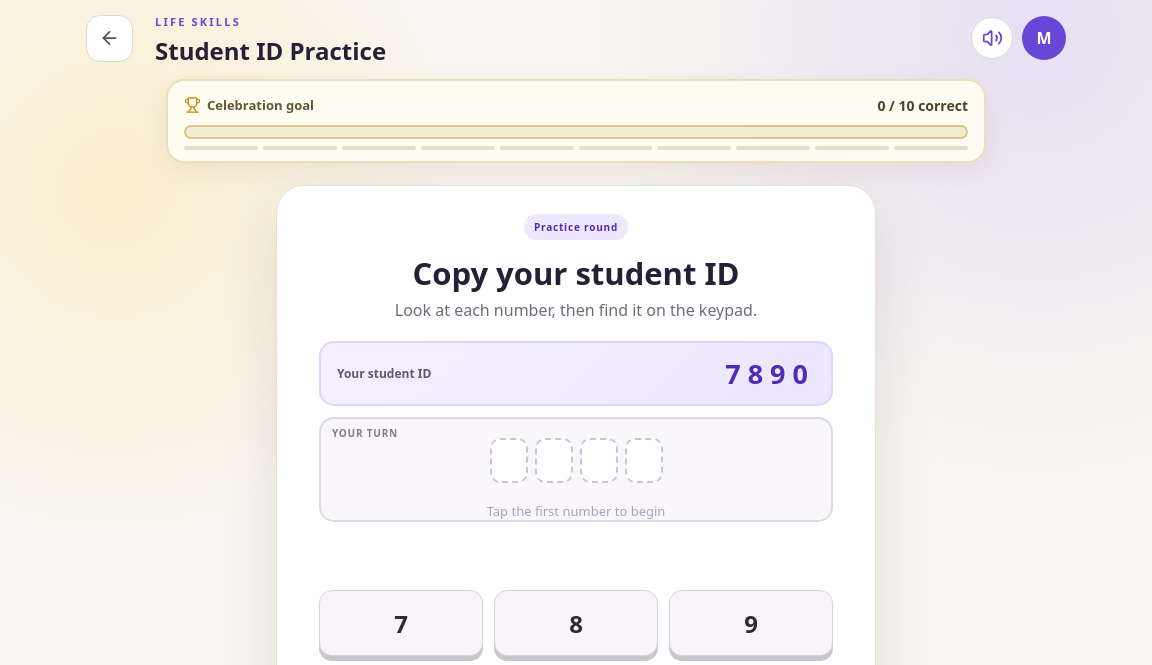
Test case: Student ID game mechanics › accepts the configured ID and increments safe success progress
The width and height of the screenshot is (1152, 665).
Click the button named "Number 7" at x=401, y=623, box [319,590,483,656]
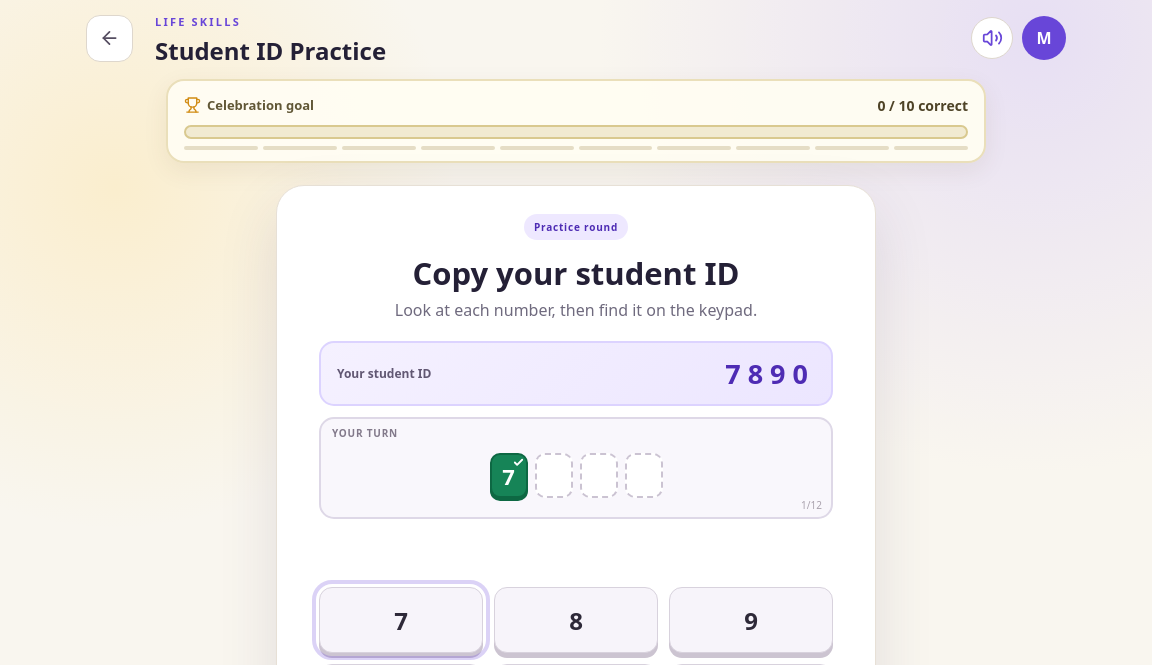
Click the button named "Number 8" at x=576, y=620, box [494,587,658,653]
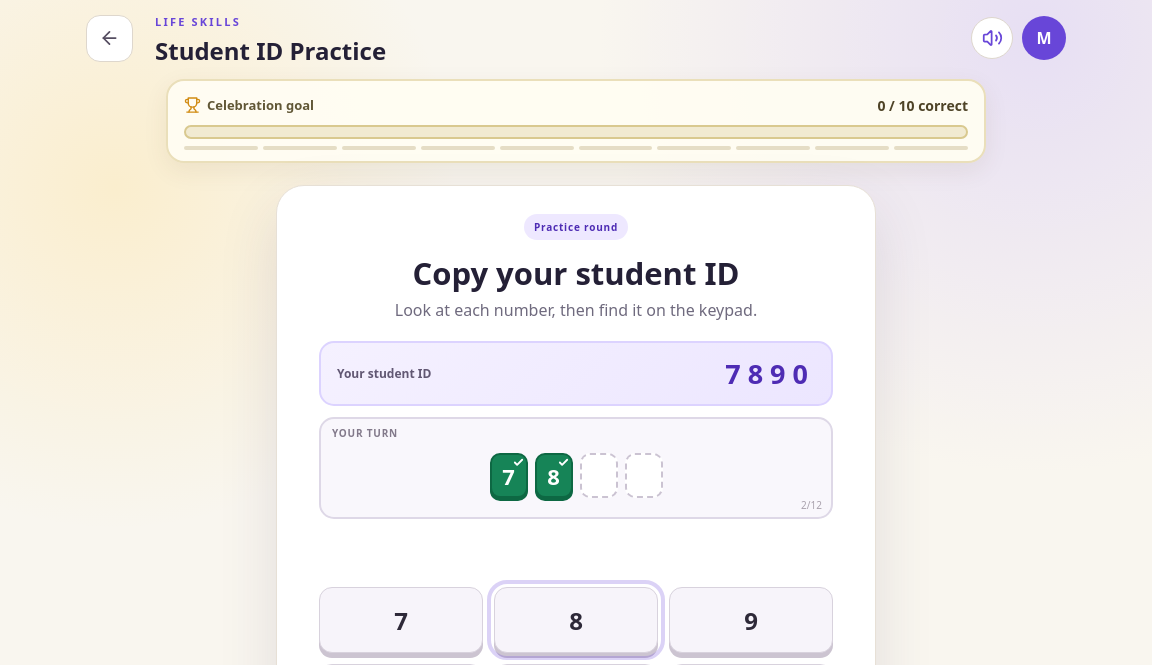
Click the button "9" at x=751, y=620, box [669,587,833,653]
(page scrolled)
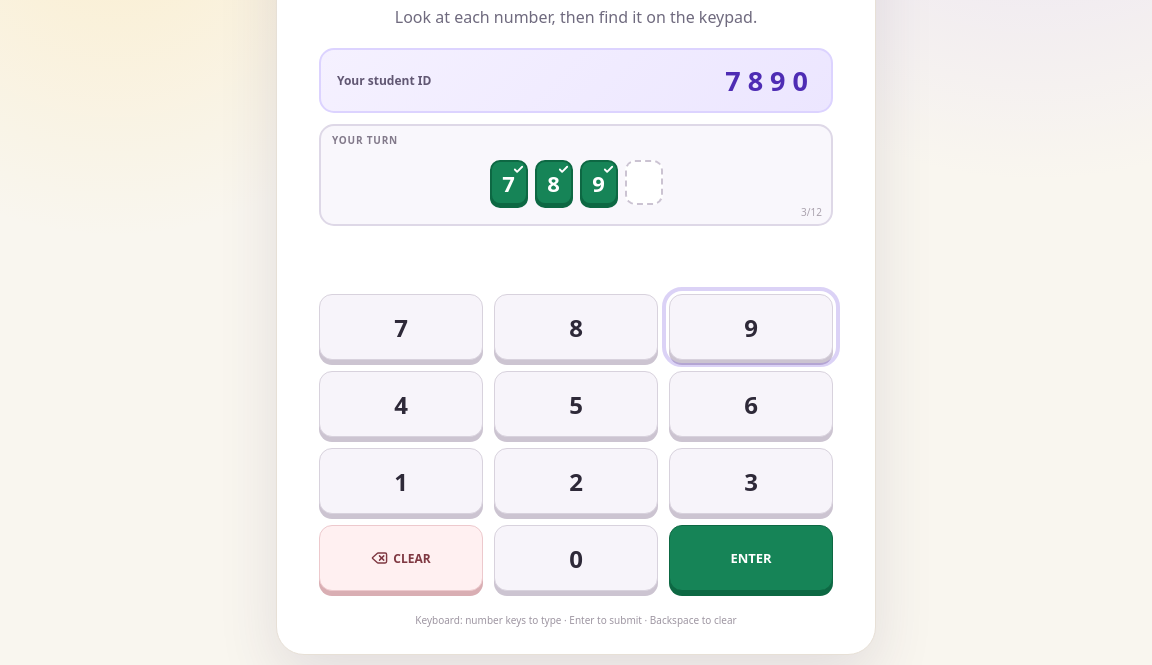
Click the button "0" at x=576, y=558, box [494,525,658,591]
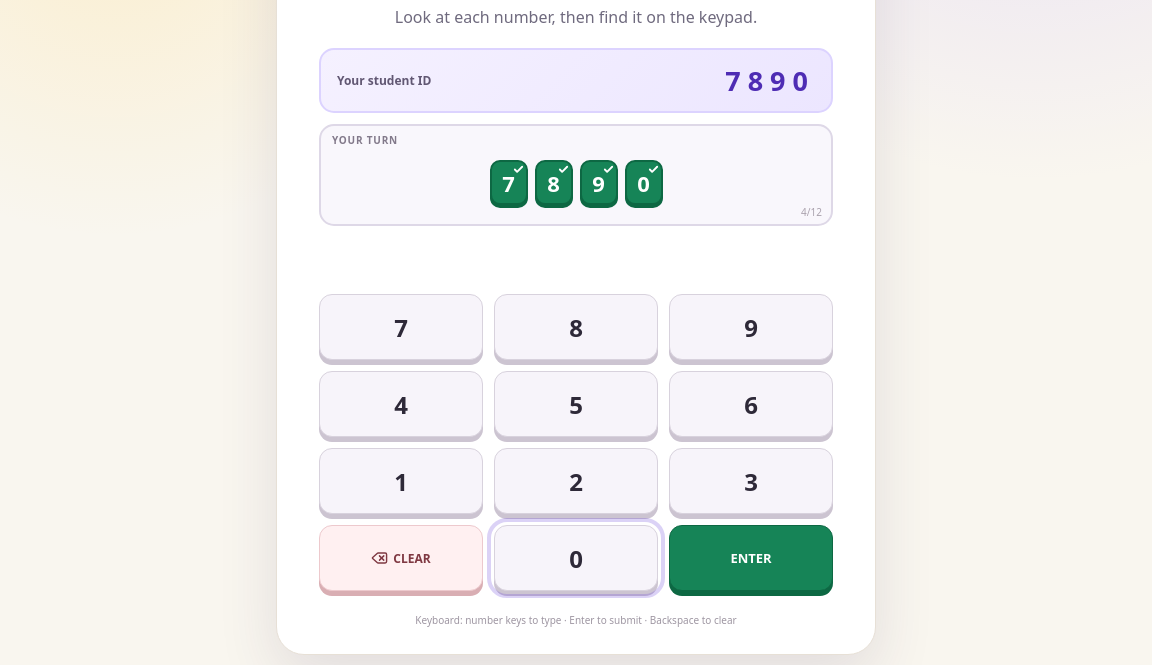
Click the button with aria-label "Submit student ID" at x=751, y=558, box [669,525,833,591]
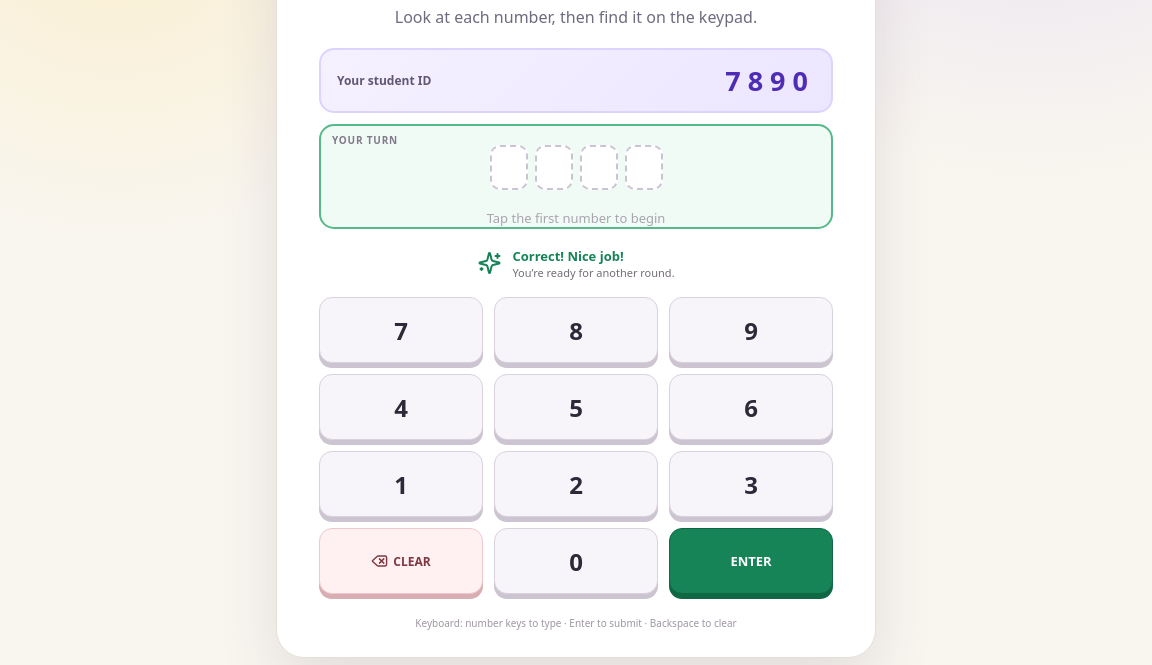
Result: the text "Correct! Nice job!" is shown at [512,246,624,264]
